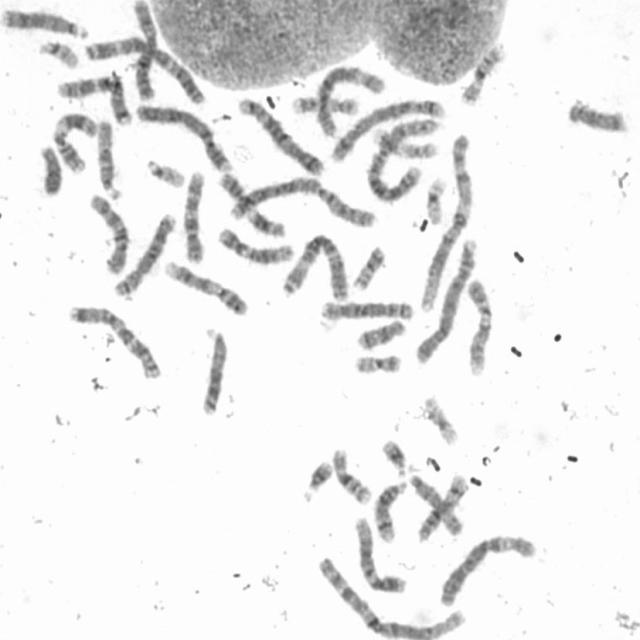A1: (314, 554, 468, 639), (416, 130, 474, 313)
A2: (216, 172, 380, 230), (363, 113, 443, 204)
A3: (82, 33, 209, 107), (277, 230, 352, 302)
B4: (413, 233, 481, 367), (133, 100, 234, 174)
B5: (328, 94, 447, 166), (236, 92, 326, 178)
C10: (85, 190, 131, 277), (179, 169, 208, 266)
C11: (216, 170, 286, 239), (49, 110, 99, 174)
C12: (351, 513, 408, 595), (214, 224, 296, 266)
C6: (434, 530, 538, 608), (312, 62, 386, 138)
C7: (64, 300, 162, 381), (55, 74, 133, 126)
C8: (110, 210, 178, 300), (316, 296, 416, 322)
C9: (162, 257, 250, 318), (462, 277, 494, 376)
D13: (1, 5, 88, 40), (197, 323, 229, 416)
D14: (412, 472, 470, 542), (370, 477, 410, 544)
D15: (407, 470, 467, 540), (93, 117, 123, 202)
E16: (457, 40, 507, 107), (329, 443, 374, 507)
E17: (370, 124, 439, 160), (288, 91, 361, 117)
E18: (563, 98, 630, 134), (354, 316, 408, 353)
F19: (420, 393, 460, 448), (424, 173, 448, 226)
F20: (349, 244, 386, 292), (351, 351, 403, 377)
G21: (298, 456, 336, 504), (378, 434, 409, 476)
G22: (142, 156, 186, 189), (36, 38, 81, 70)
X: (130, 0, 158, 104)
Y: (36, 141, 63, 198)
